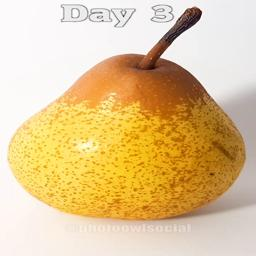Pear Semirotten: (11, 5, 255, 222)
